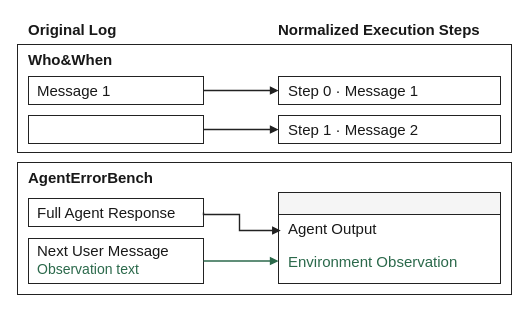
The diagram is 529 pixels wide and 312 high, and some of its shapes have lost their labels. The centre of each missing label's shape, as x and y in pixels:
"Message 2" belongs at pixel 116 129.
"Step 0" belongs at pixel 389 203.
